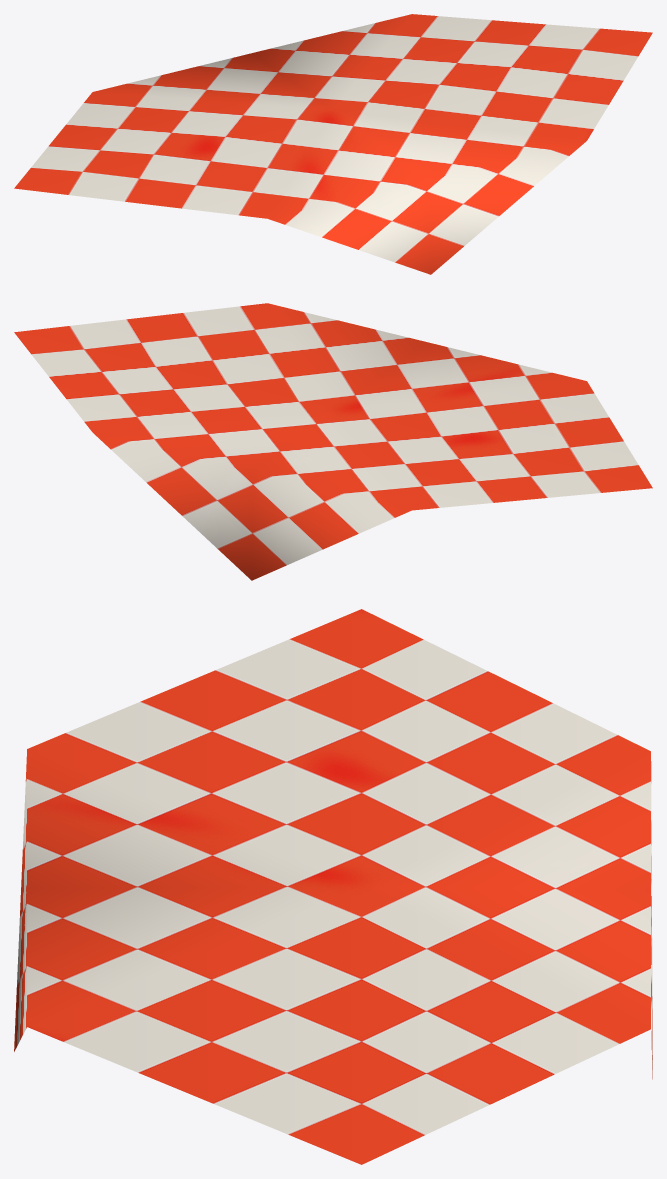
The model's file is export kraam tafelkleed 01.fbx.
3 renders of one model, top to bottom at view 1: azimuth 30°, elevation 25°; view 2: azimuth 150°, elevation 25°; view 3: azimuth 270°, elevation 25°, orthographic. The views are drawn at different scales.
Parts seen in each view (by area): view 1: pPlane1; view 2: pPlane1; view 3: pPlane1.
Boxes of the visible parts, x1,y1,x2,y2 form: pPlane1: (14,14,652,274); pPlane1: (14,303,652,580); pPlane1: (14,609,652,1164).
Bounding box in the file's own units: 10.79 × 1.79 × 5.24.
Materials: 1 (1 with a texture image).
